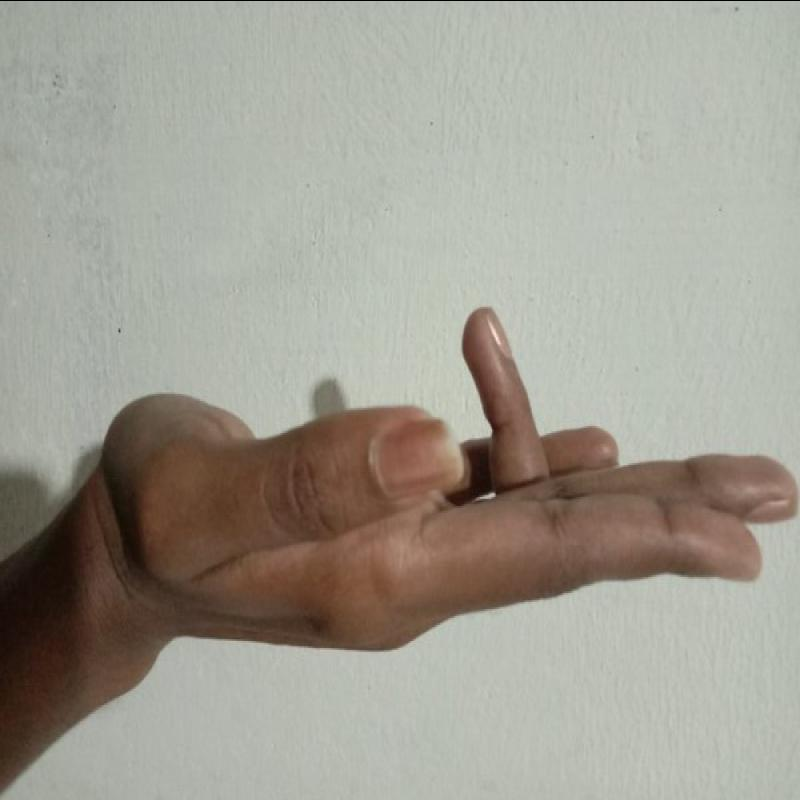Pathaaka: (99, 290, 800, 681)
